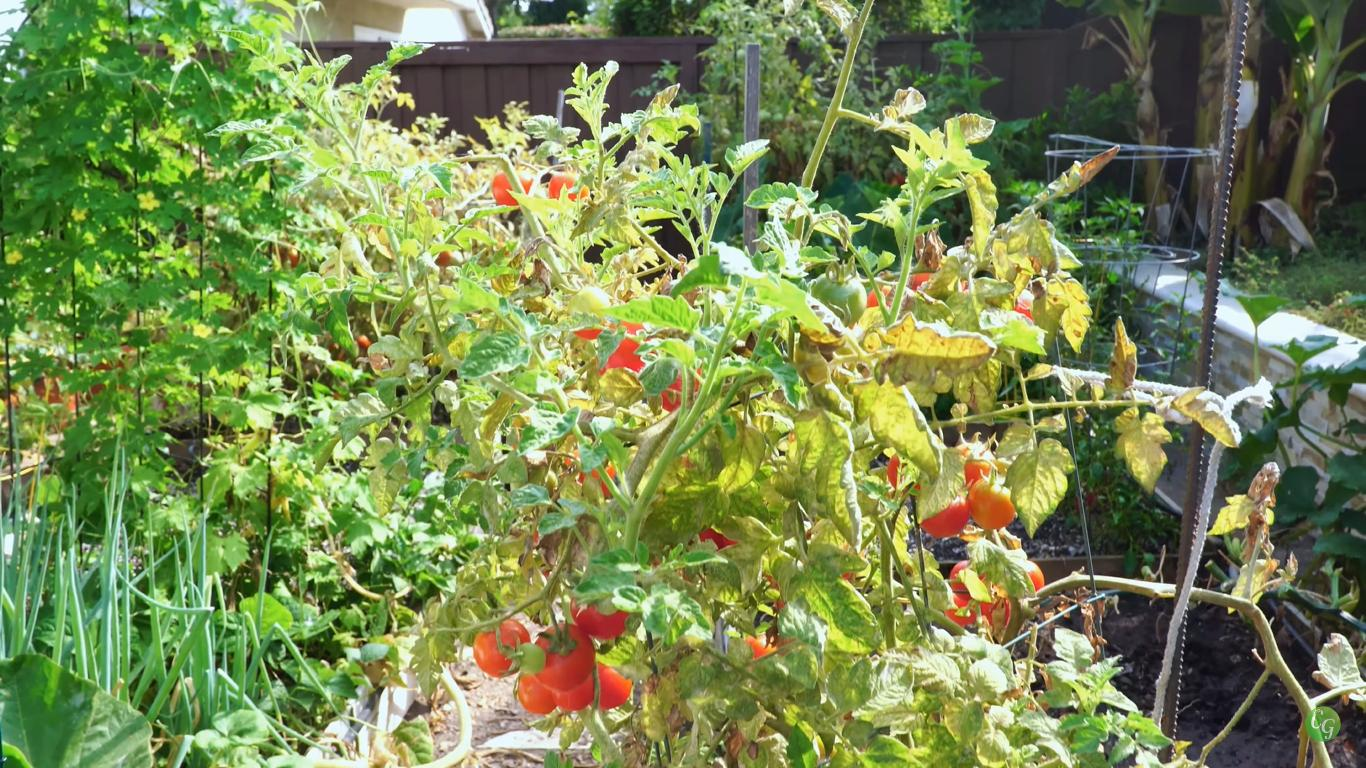Spider Mites: (844, 371, 948, 486), (793, 404, 865, 557), (873, 309, 999, 389), (784, 555, 886, 653), (640, 446, 729, 551), (1002, 436, 1077, 541), (1113, 404, 1174, 501), (826, 657, 911, 715), (968, 536, 1037, 599), (638, 670, 695, 744), (914, 446, 967, 524), (1045, 276, 1094, 356), (717, 421, 768, 496), (961, 169, 999, 267), (1101, 311, 1140, 396), (593, 366, 646, 408), (941, 698, 984, 749), (912, 654, 964, 696), (944, 111, 998, 147), (676, 653, 715, 700), (966, 656, 1009, 696), (782, 646, 819, 691), (994, 419, 1034, 459), (974, 728, 1014, 768)
